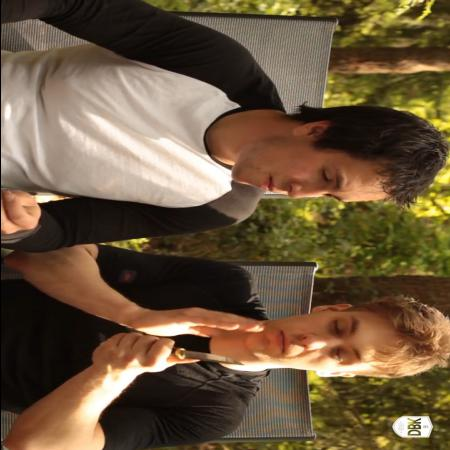long weapon: (122, 330, 260, 380)
